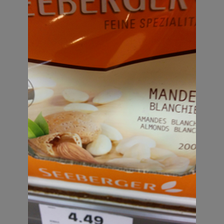nuts: (28, 1, 196, 174)
